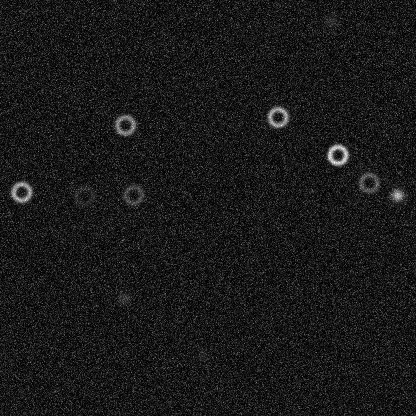Ring: (265, 104, 289, 128), (9, 179, 33, 203), (356, 170, 380, 194), (121, 182, 145, 206), (325, 142, 349, 166), (72, 183, 96, 207), (113, 112, 137, 136)
Spot: (116, 289, 132, 305), (194, 346, 210, 362), (389, 187, 405, 203), (323, 13, 339, 29)
